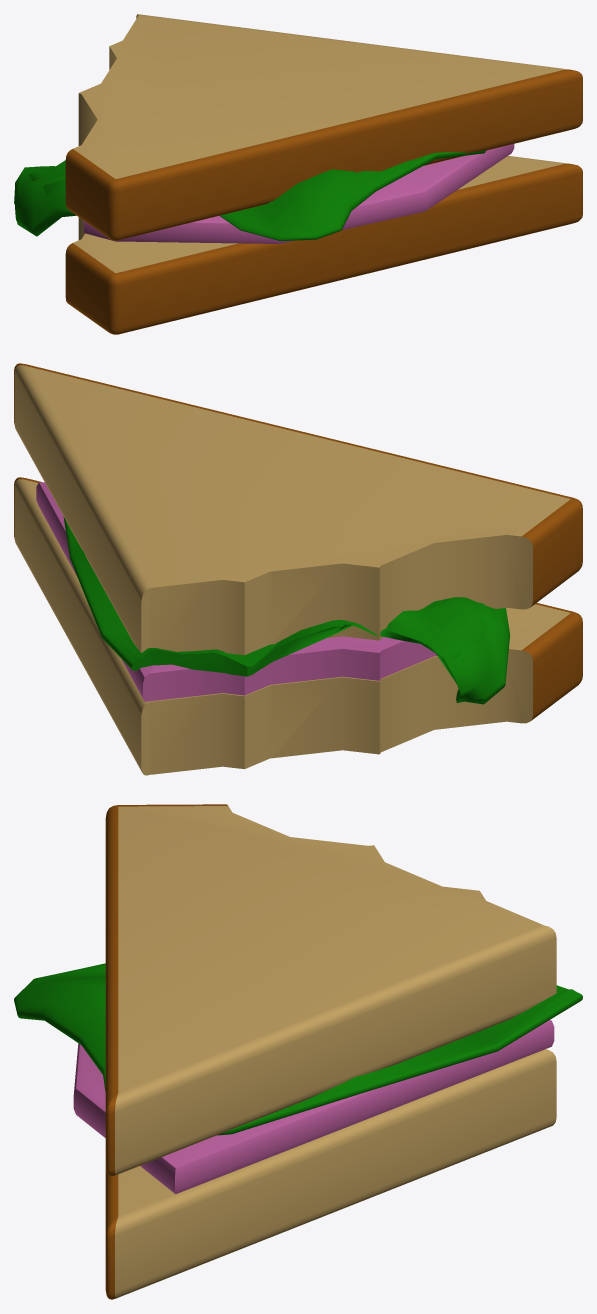
File: Food waste - Sandwich.fbx
3 views of the same model, one above another, from view 1: azimuth 30°, elevation 25°; view 2: azimuth 150°, elevation 25°; view 3: azimuth 270°, elevation 25° (orthographic). The views are drawn at different scales.
Parts seen in each view (by area): view 1: Prism002; view 2: Prism002; view 3: Prism002.
Boxes of the visible parts, x1=… form: Prism002: x1=14, y1=14, x2=582, y2=334; Prism002: x1=14, y1=363, x2=582, y2=775; Prism002: x1=14, y1=804, x2=582, y2=1299.
Bounding box in the file's own units: 57.23 × 17.67 × 45.04.
